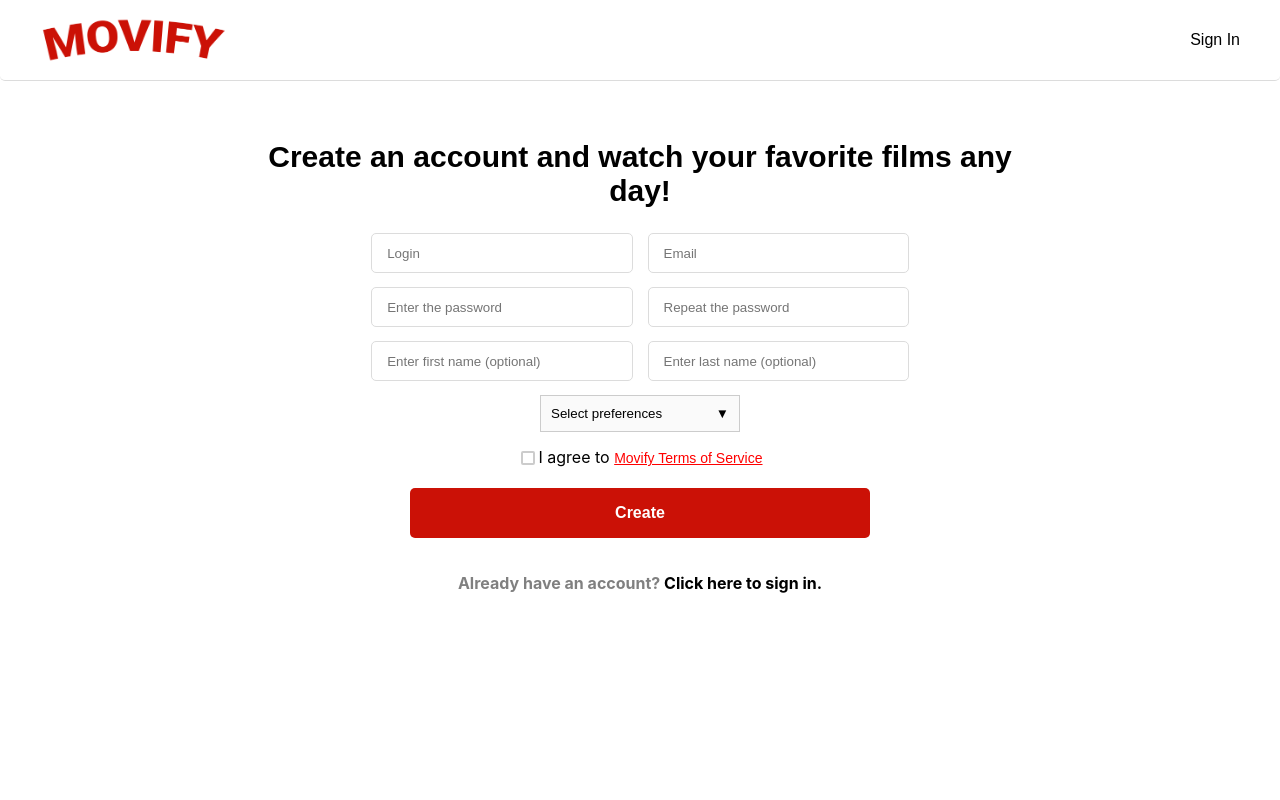
Test: Register Component › shows server error (500)
Type "existinguser" into the field with placeholder "Login" at coordinates (502, 253), box [371,233,632,273]
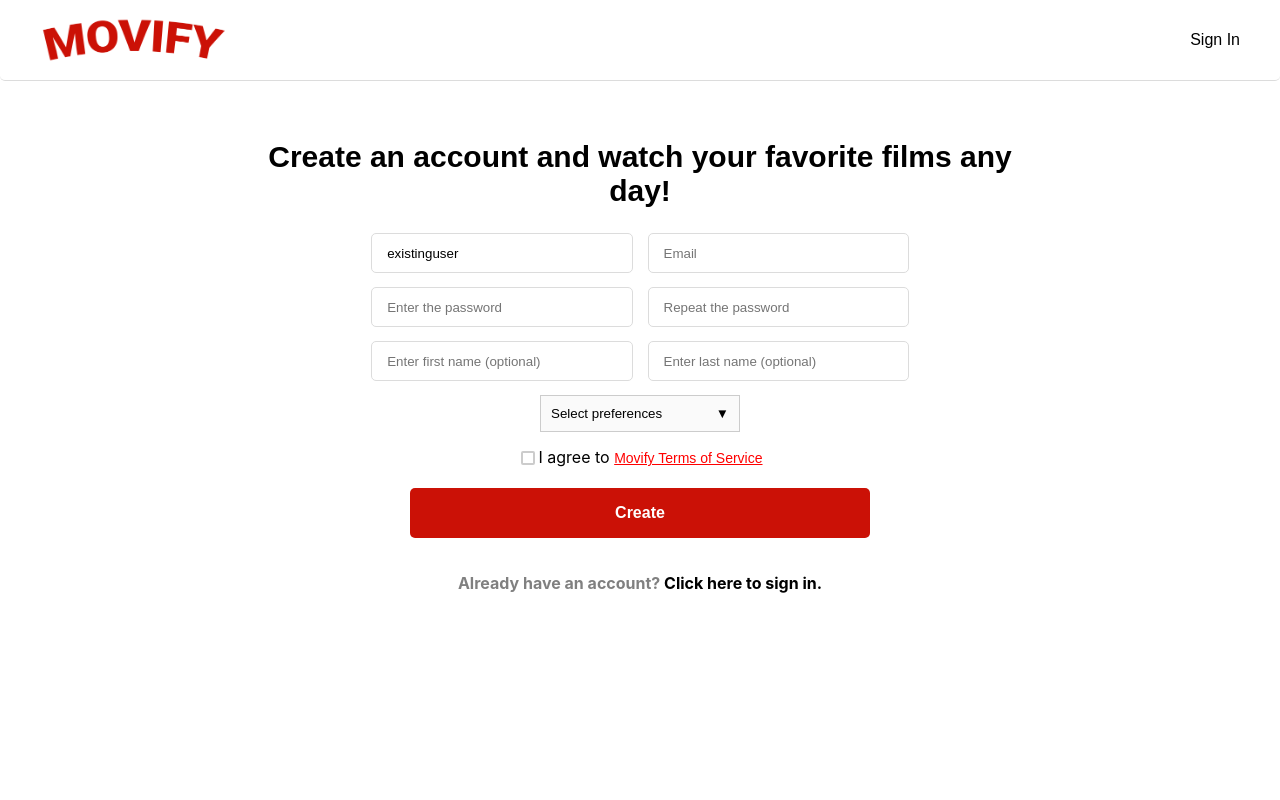
Type "existing@example.com" into the field with placeholder "Email" at coordinates (778, 253), box [648,233,909,273]
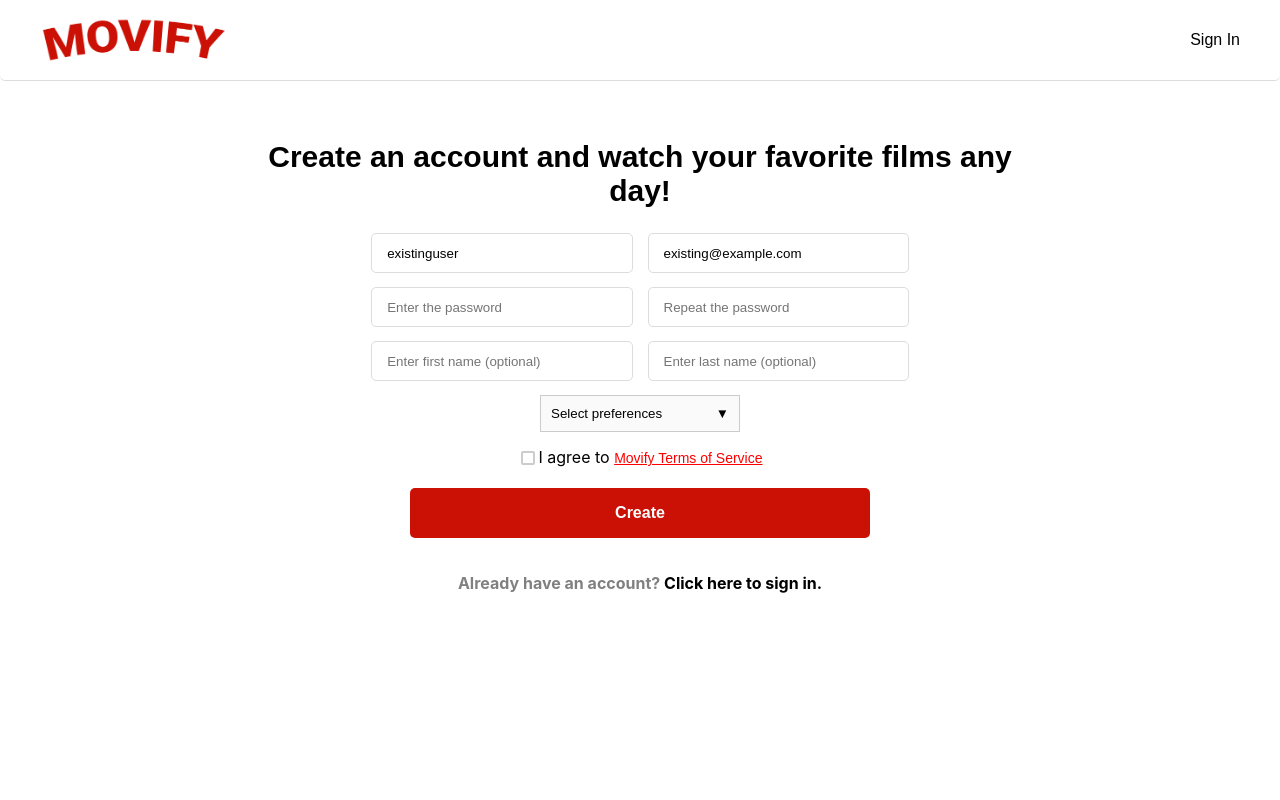
Type "Password1!" into the password field with placeholder "Enter the password" at coordinates (502, 307), box [371,287,632,327]
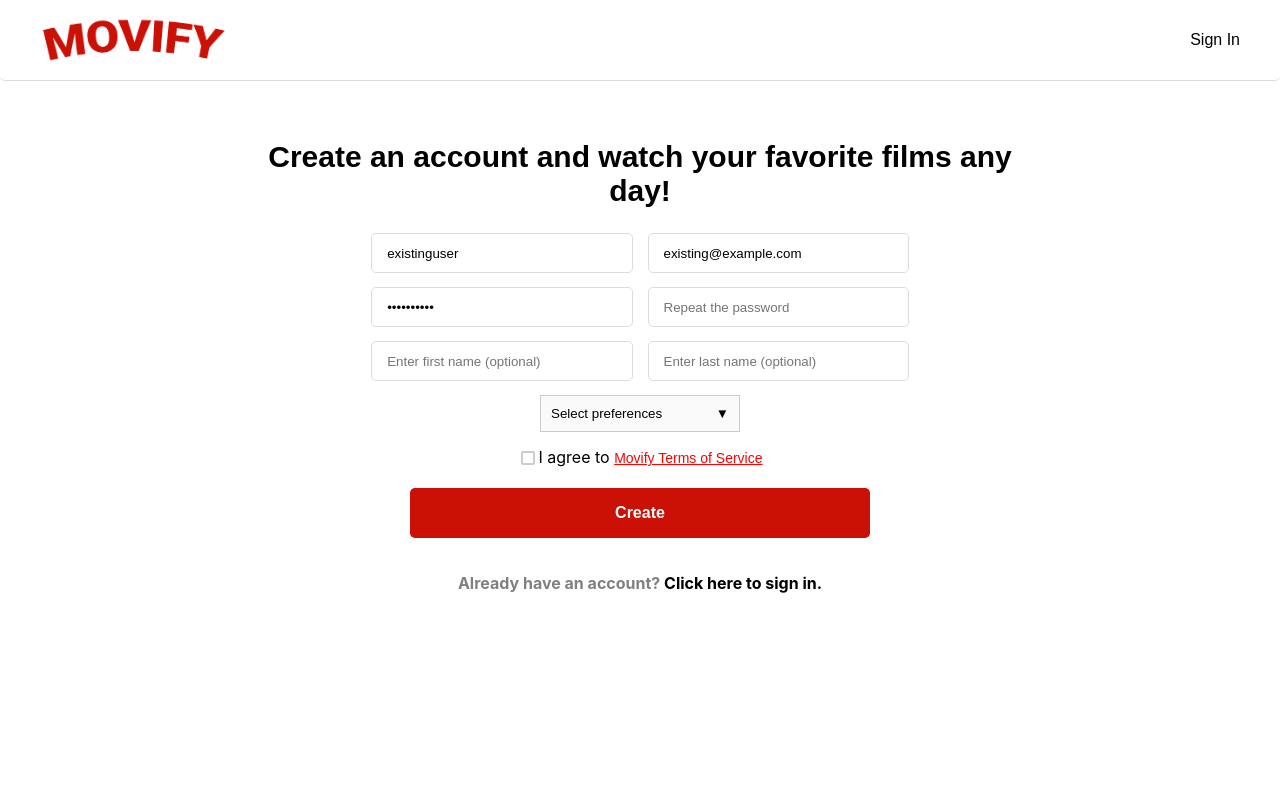
Type "Password1!" into the password field with placeholder "Repeat the password" at coordinates (778, 307), box [648,287,909,327]
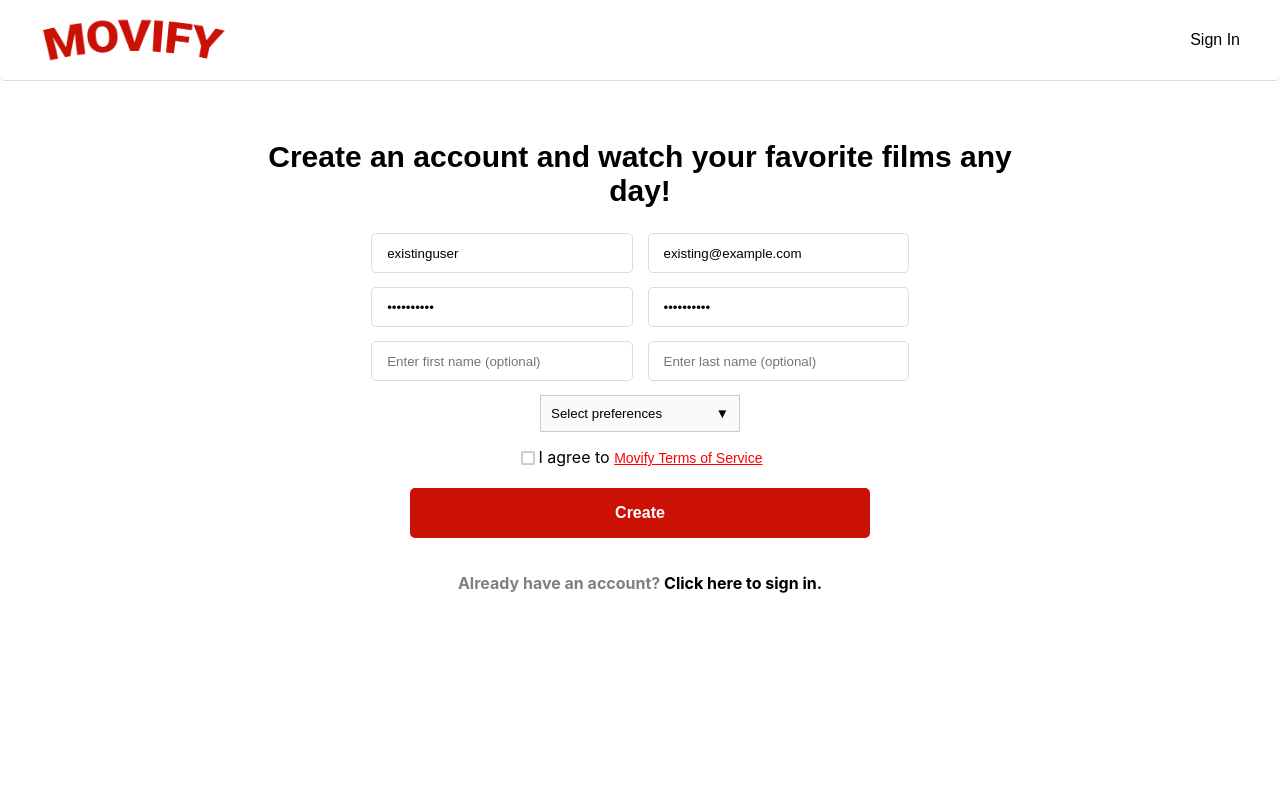
Click the checkbox labelled "I agree to" at coordinates (528, 458), box [522,451,536,465]
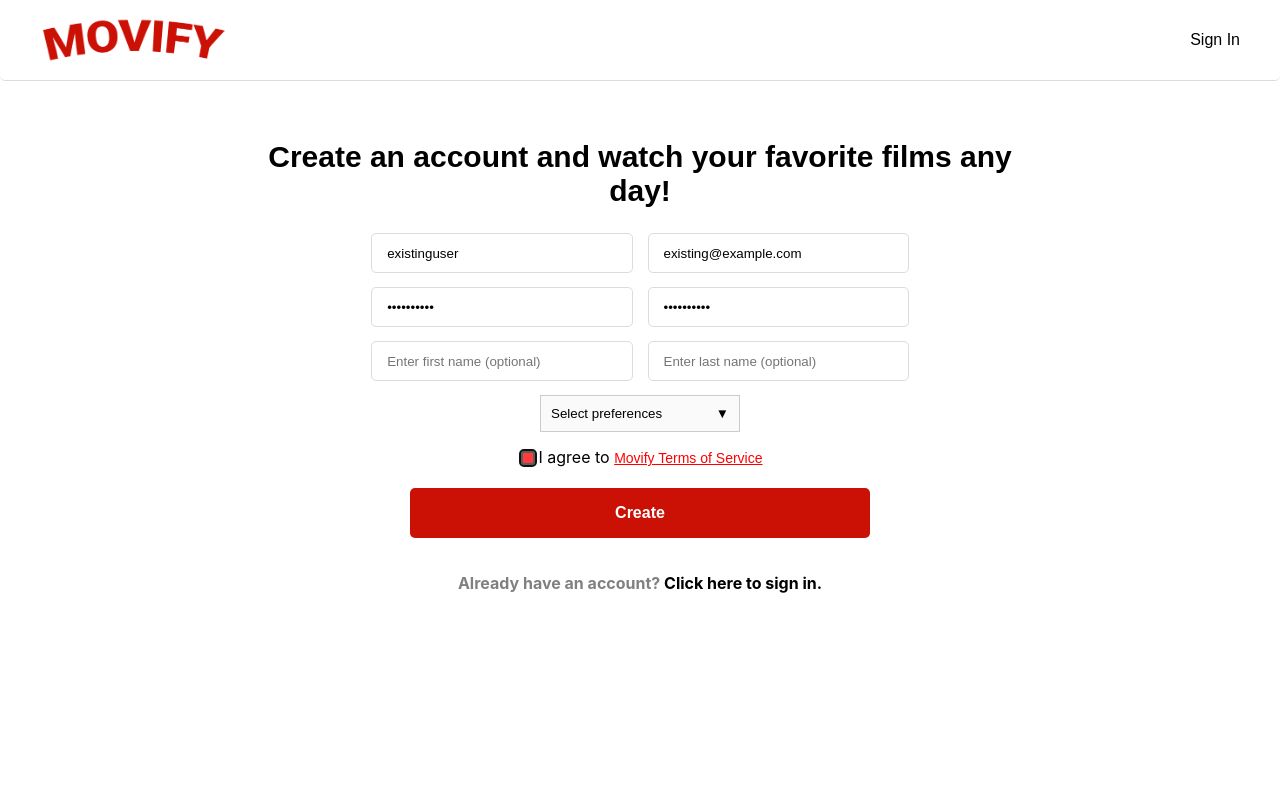
Click the button "Create" at coordinates (640, 513), box [410,488,870,538]
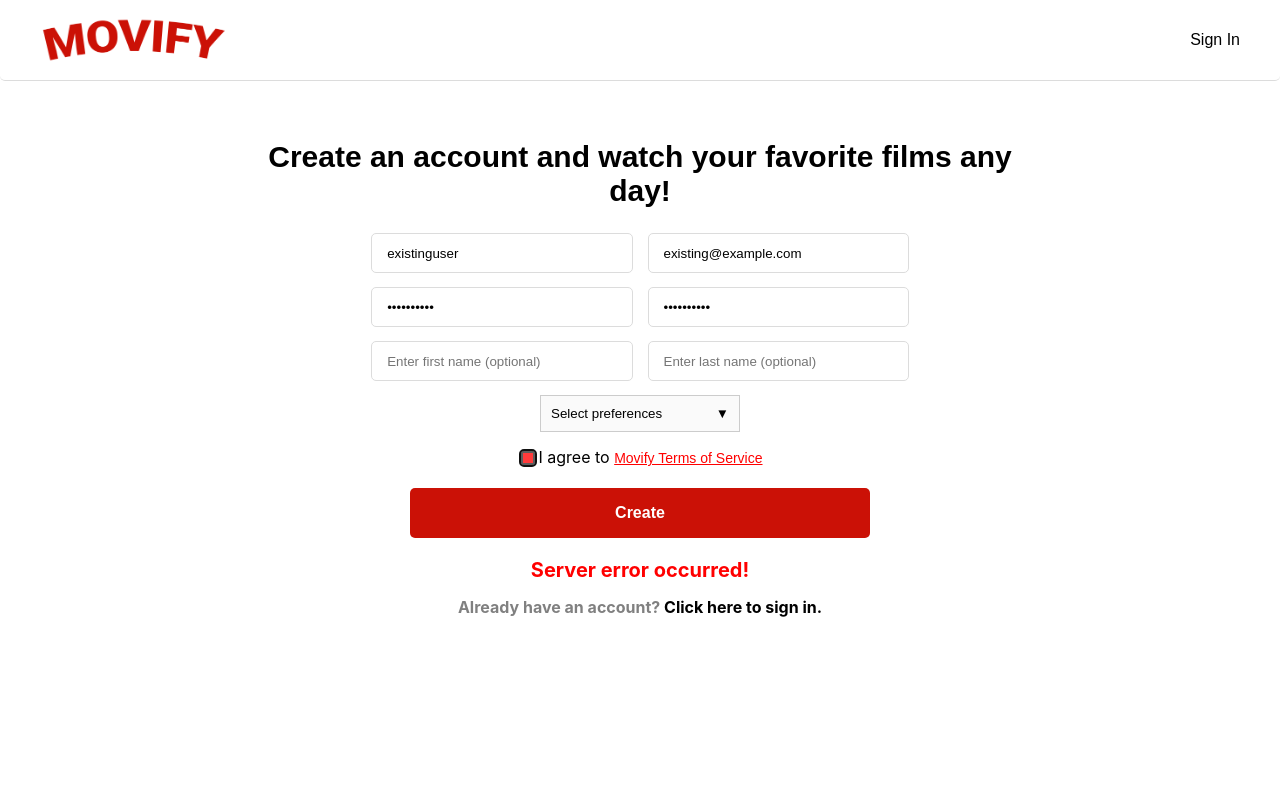
Check: the text "Server error occurred!" is shown, box [531,558,749,582]
